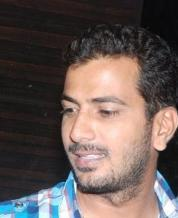face: (59, 94, 125, 170)
